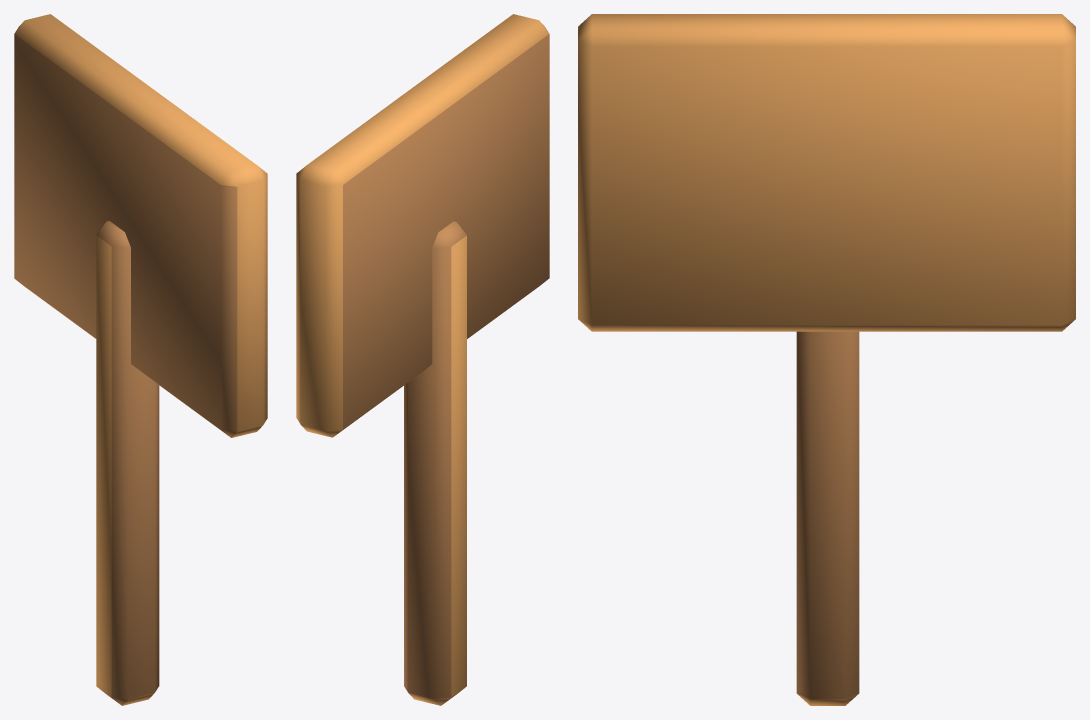
The model's file is WoodPlate.fbx.
The picture shows the model from 3 angles, left to right: view 1: azimuth 30°, elevation 25°; view 2: azimuth 150°, elevation 25°; view 3: azimuth 270°, elevation 25°; orthographic projection. The views are drawn at different scales.
Visible parts, largest first — view 1: WoodPlate; view 2: WoodPlate; view 3: WoodPlate.
Part boxes in pixels (x1,y1,x2,y2): WoodPlate: (14,14,267,705); WoodPlate: (296,14,549,705); WoodPlate: (578,14,1075,705).
Bounding box in the file's own units: 7.44 × 71.23 × 46.94.
